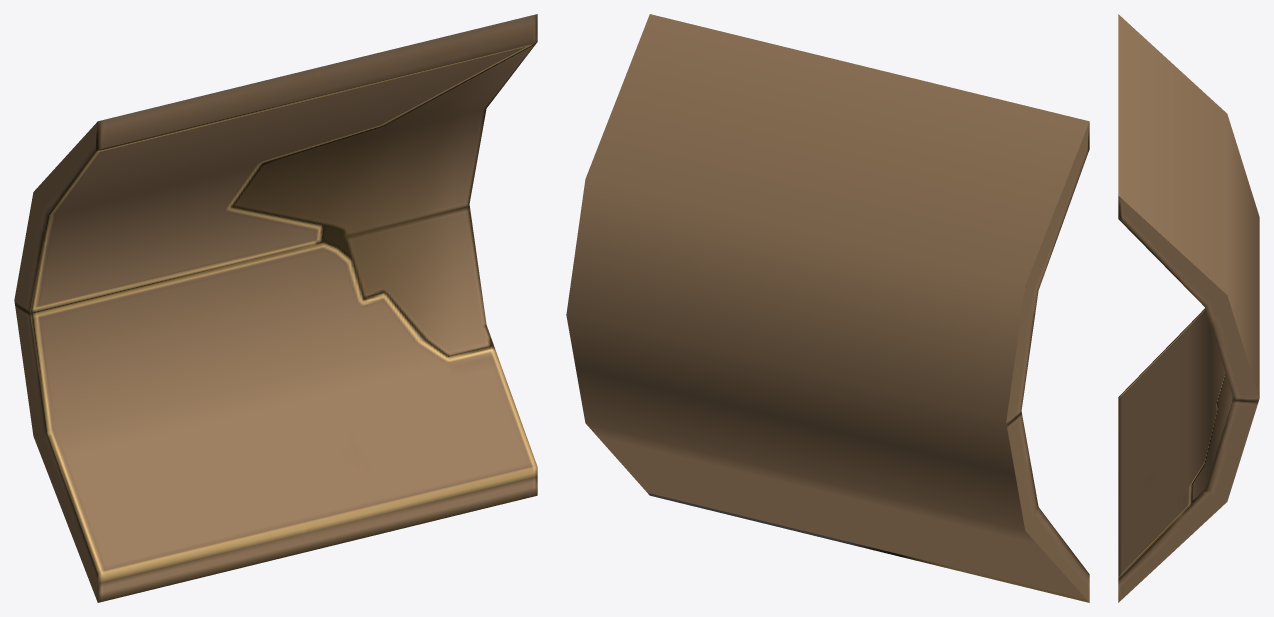
The model's file is egypt_wall.gltf.
3 views of the same model, side by side, from view 1: azimuth 30°, elevation 25°; view 2: azimuth 150°, elevation 25°; view 3: azimuth 270°, elevation 25° (orthographic). The views are drawn at different scales.
Parts seen in each view (by area): view 1: egypt_wall_glb; view 2: egypt_wall_glb; view 3: egypt_wall_glb.
Part boxes in pixels (x1,y1,x2,y2): egypt_wall_glb: (14,14,537,602); egypt_wall_glb: (566,14,1089,602); egypt_wall_glb: (1118,14,1259,602).
Size of what is drawn, in the model's own units: 4 by 4.19 by 1.32.
Materials: 1 (1 with a texture image).
